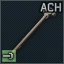AR-15 Geissele ACH charging handle: (0, 0, 64, 64)
